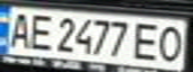2: (51, 15, 78, 54)
4: (72, 16, 96, 55)
7: (106, 18, 133, 57), (90, 17, 112, 56)
A: (3, 9, 36, 48)
E: (130, 19, 163, 62), (24, 11, 57, 52)
O: (151, 24, 187, 63)
